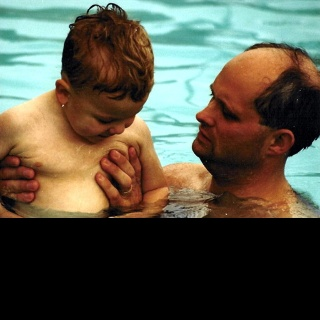without_mask: (191, 52, 271, 159), (69, 91, 147, 143)
